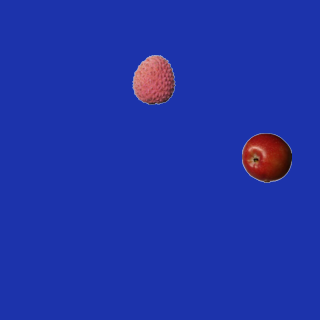Apple Braeburn: (241, 132, 291, 182)
Lychee: (128, 54, 178, 104)
